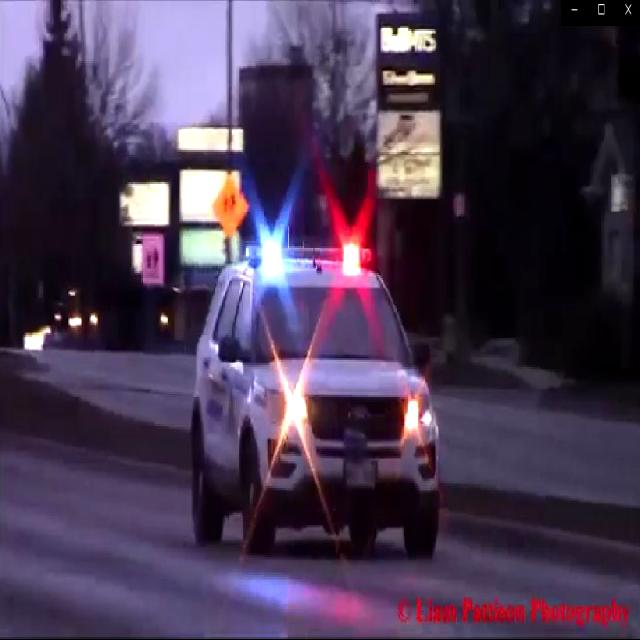emergency: (192, 221, 444, 520)
